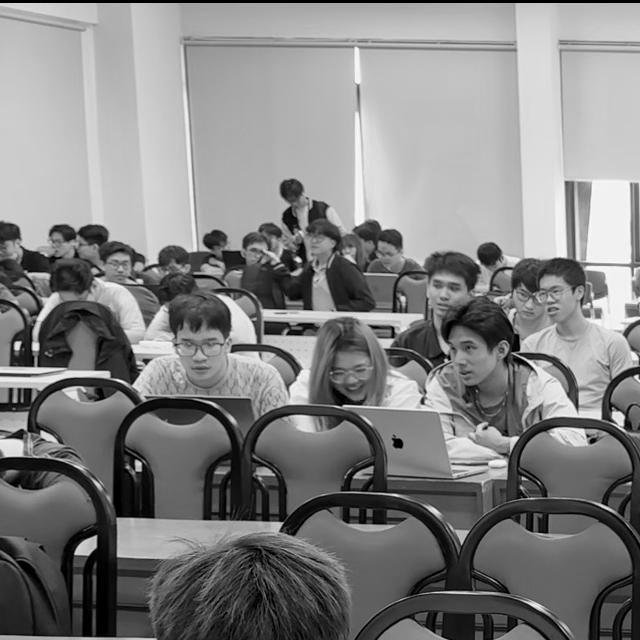Looking away: (169, 325, 229, 384), (329, 348, 376, 405)
Looking forward: (445, 329, 491, 387), (539, 274, 577, 324), (428, 275, 469, 318)
